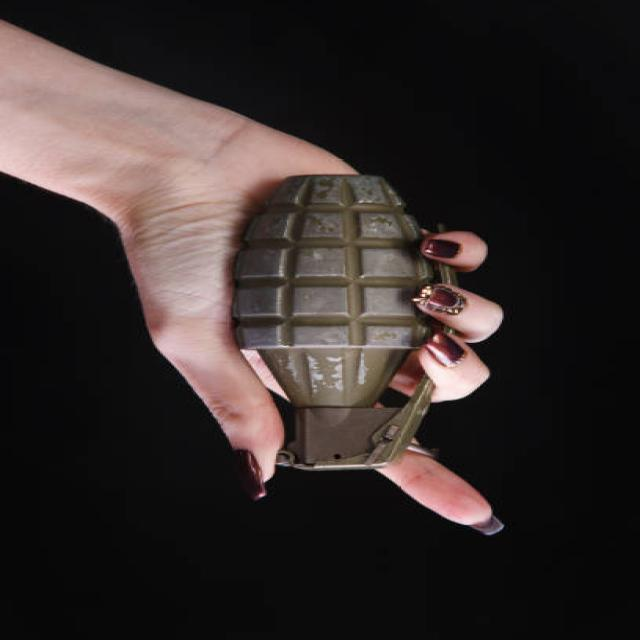grenade: (225, 172, 459, 475)
